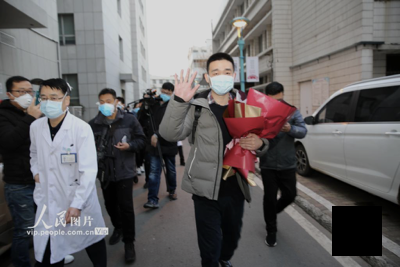with_mask: (208, 67, 235, 97), (39, 92, 65, 118), (13, 87, 35, 108), (98, 98, 117, 117), (160, 88, 172, 102)
